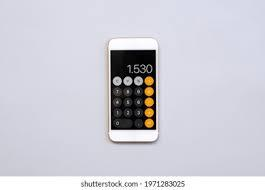Calculator: (109, 60, 157, 131)
